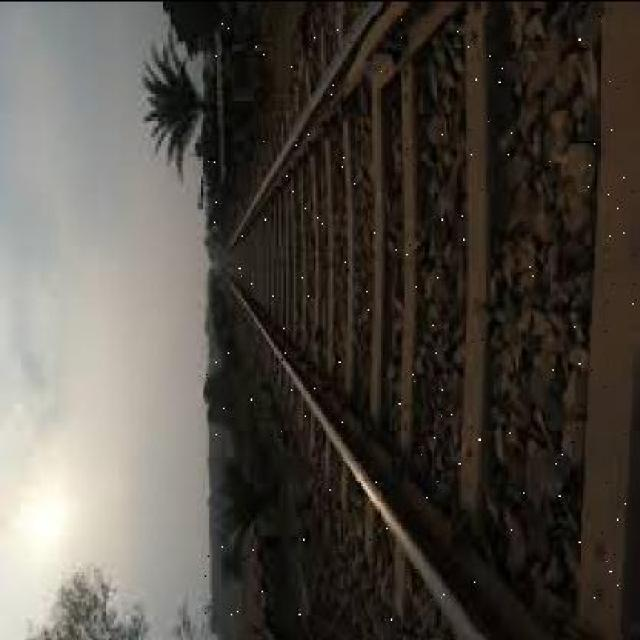rail: (204, 14, 635, 632)
